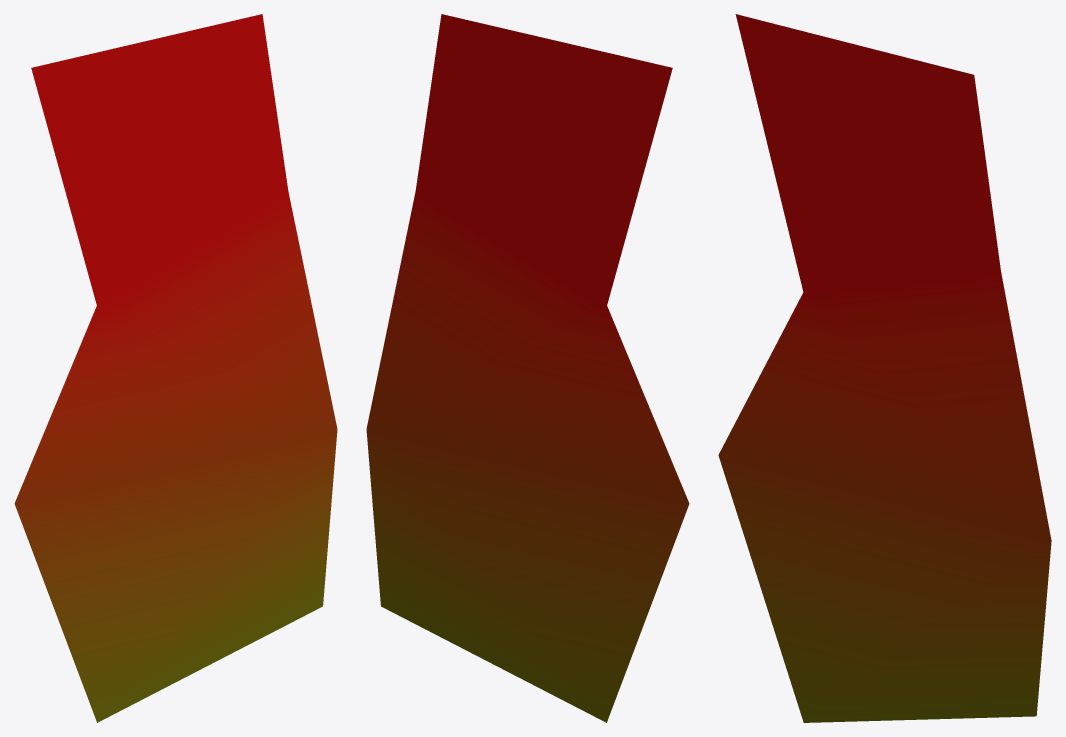
Rendered from Sowthistle_LOD4_Var2_tgdqciyr.fbx.
3 views of the same model, side by side, from view 1: azimuth 30°, elevation 25°; view 2: azimuth 150°, elevation 25°; view 3: azimuth 330°, elevation 25° (orthographic). The views are drawn at different scales.
Visible parts, largest first — view 1: _6f57_Var2_LOD4; view 2: _6f57_Var2_LOD4; view 3: _6f57_Var2_LOD4.
Boxes of the visible parts, x1,y1,x2,y2 form: _6f57_Var2_LOD4: [14, 14, 337, 722]; _6f57_Var2_LOD4: [366, 14, 689, 722]; _6f57_Var2_LOD4: [718, 14, 1051, 722].
Bounding box in the file's own units: 71.24 × 141 × 3.81e-06.
